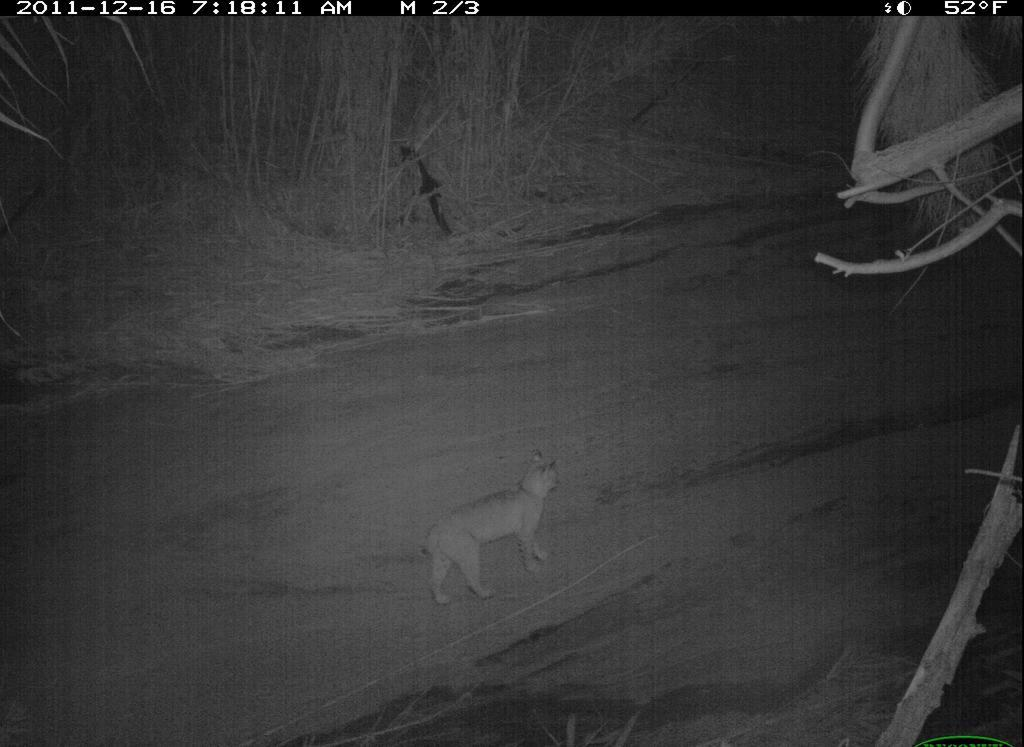bobcat: (425, 424, 583, 625)
